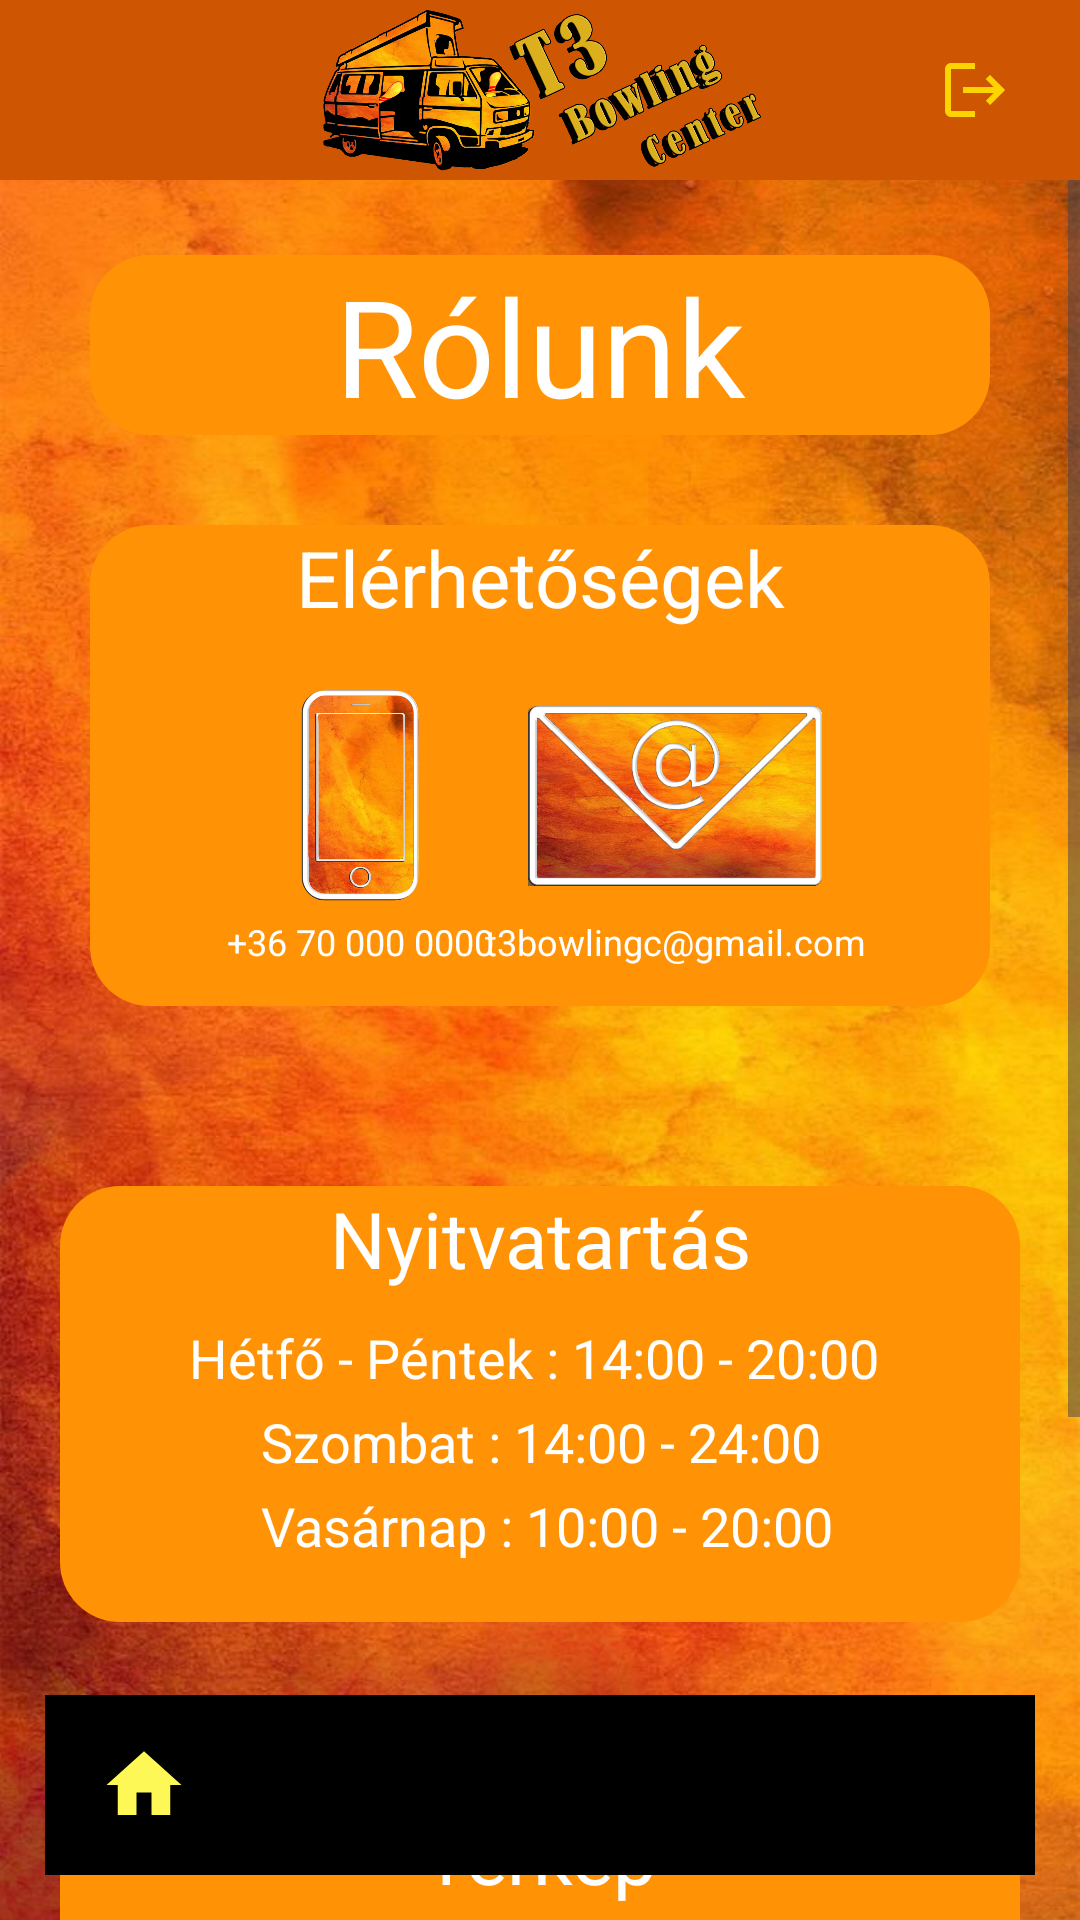

Icon click points for this 1080 x 1920 phone screenshot, format point (x, y):
E-mail: point (675, 796)
Kijelentkezés: point (975, 90)
